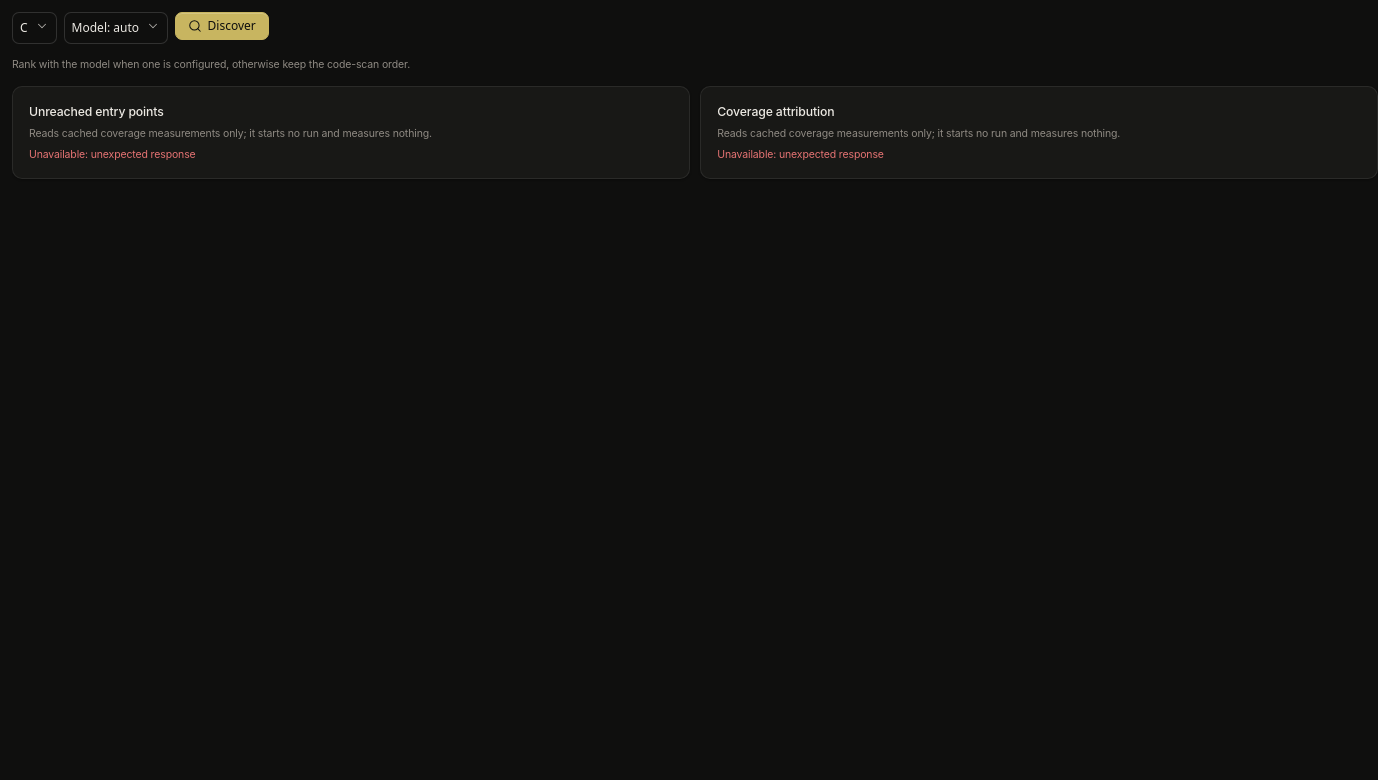
it: explains scan-only fallback and retries assessment without rescanning
The width and height of the screenshot is (1378, 780).
Later steps or results of the test are not shown.
Click the button "Discover": click(222, 26) [175,12,269,40]
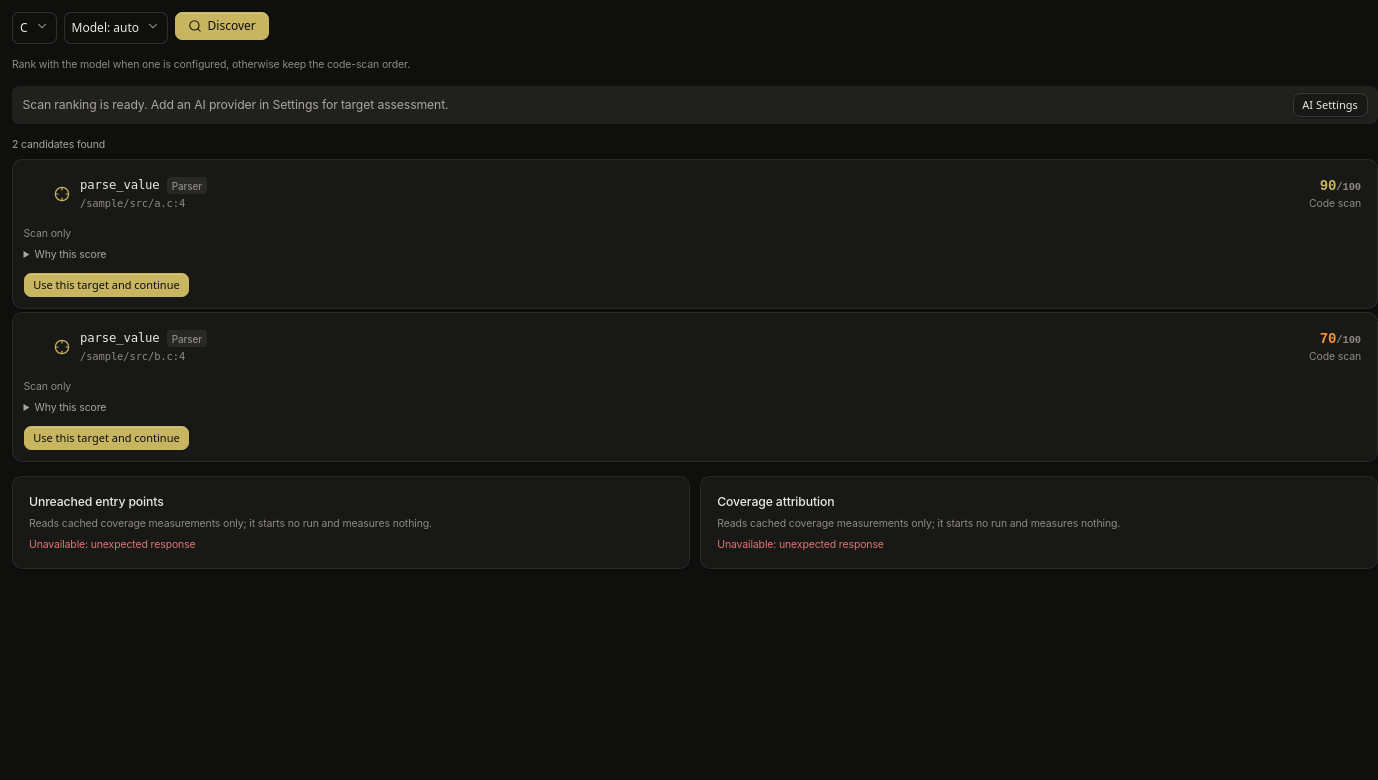
Expected: the text "Add an AI provider in Settings" is shown, [22,97,448,112]
Click the button "AI Settings": click(1330, 105) [1292,92,1368,117]
Click the button "Discover": click(222, 26) [175,12,269,40]
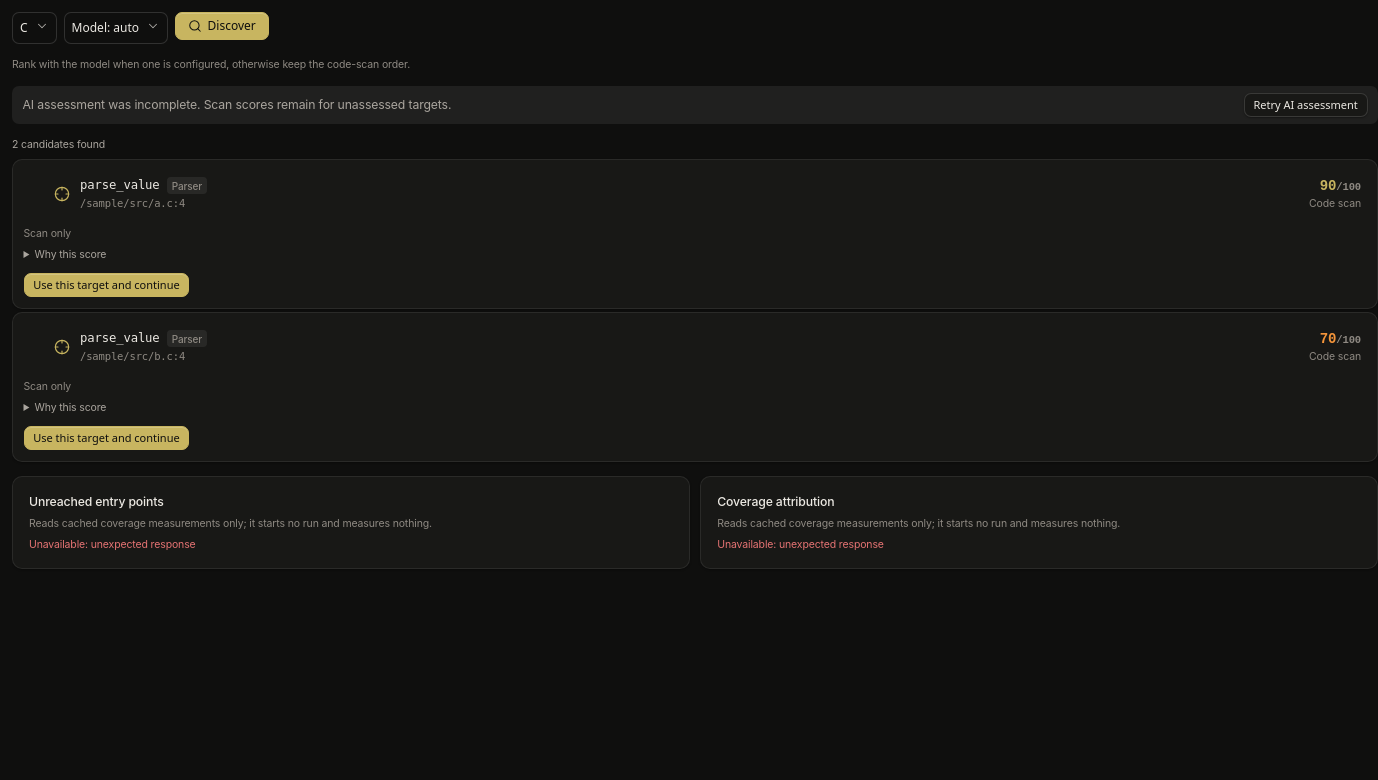
Expected: the text "AI assessment was incomplete" is shown, [22,97,451,112]
